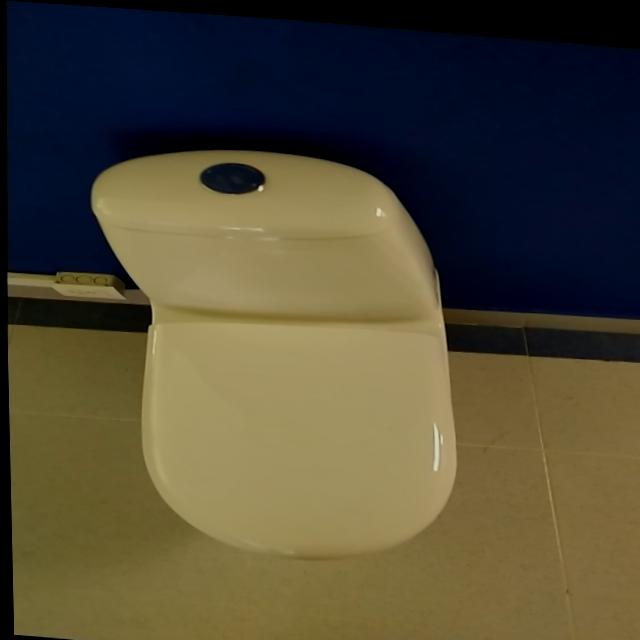toilet: (72, 128, 469, 573)
